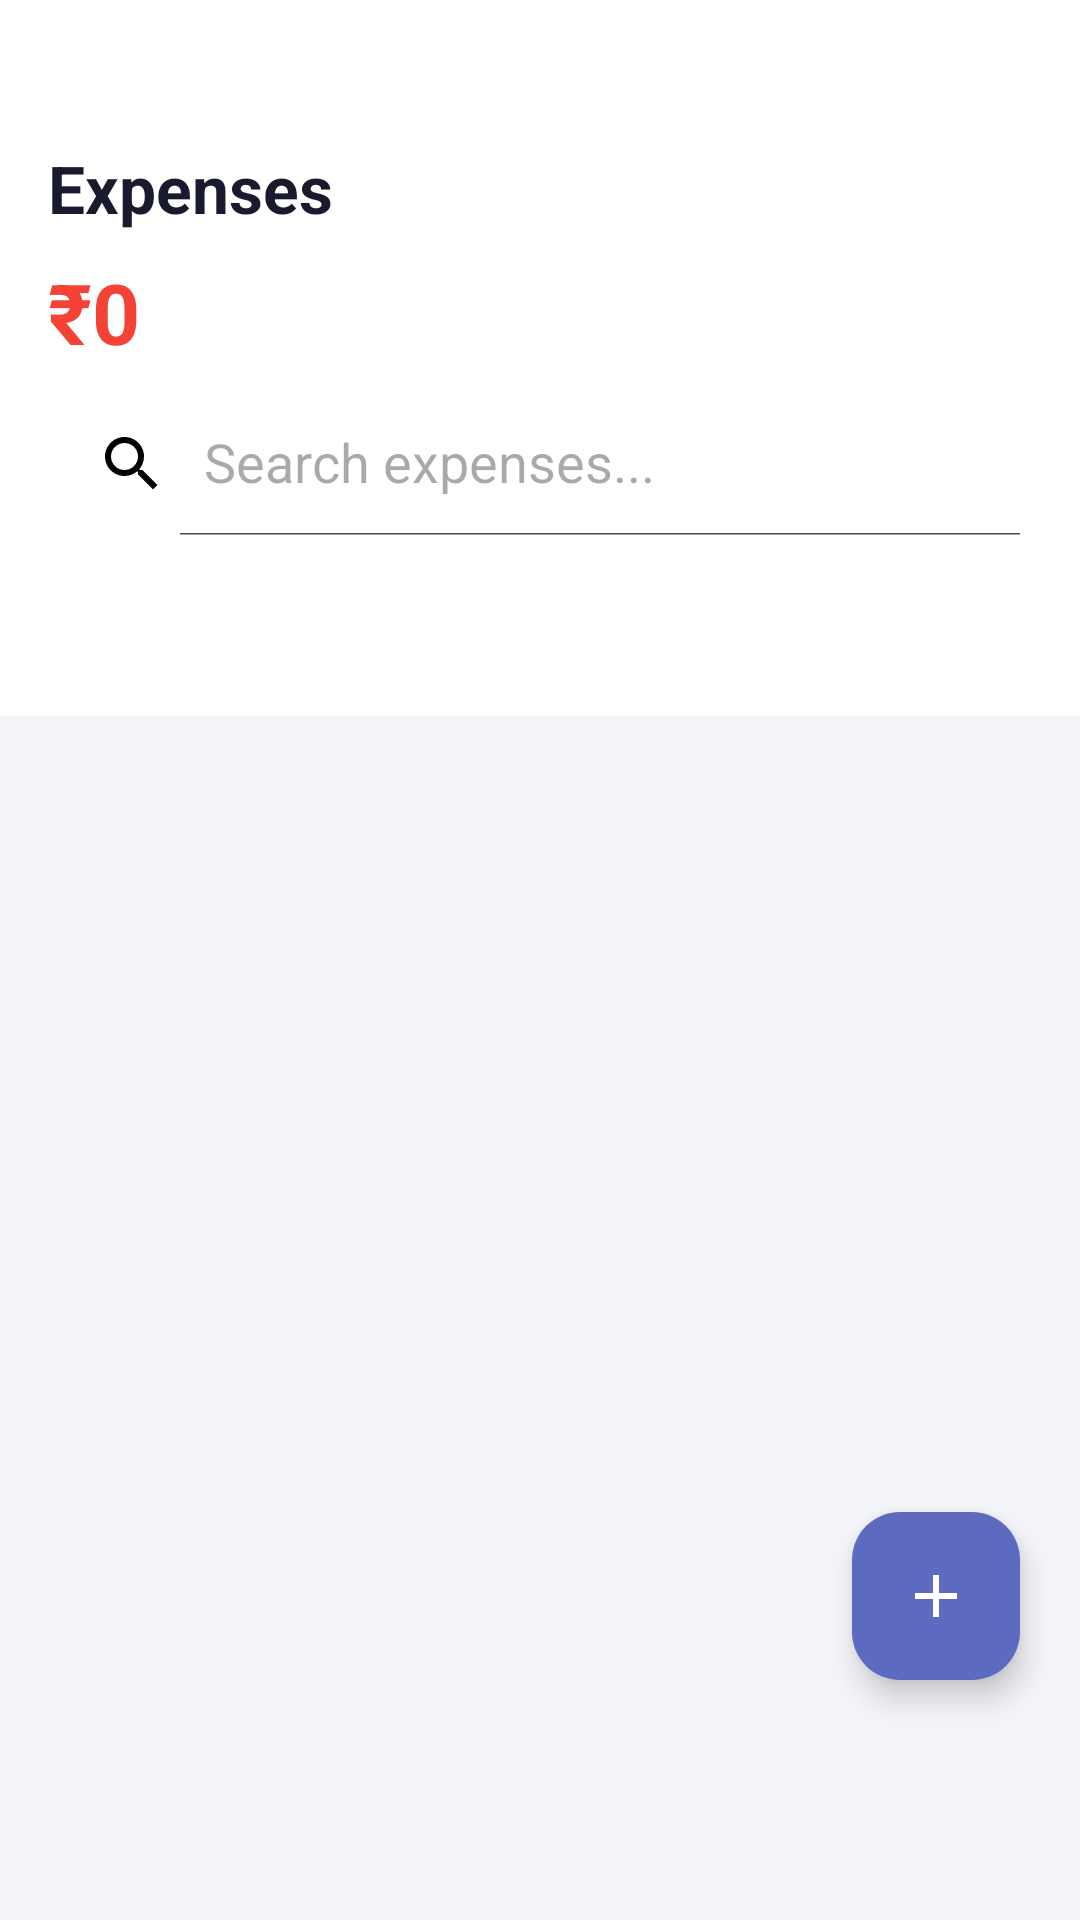

Named icons in this screenshot (1080 × 1920) and their bounding boxes, (x1, y1, x2, y2):
add: (852, 1512, 1020, 1680)
